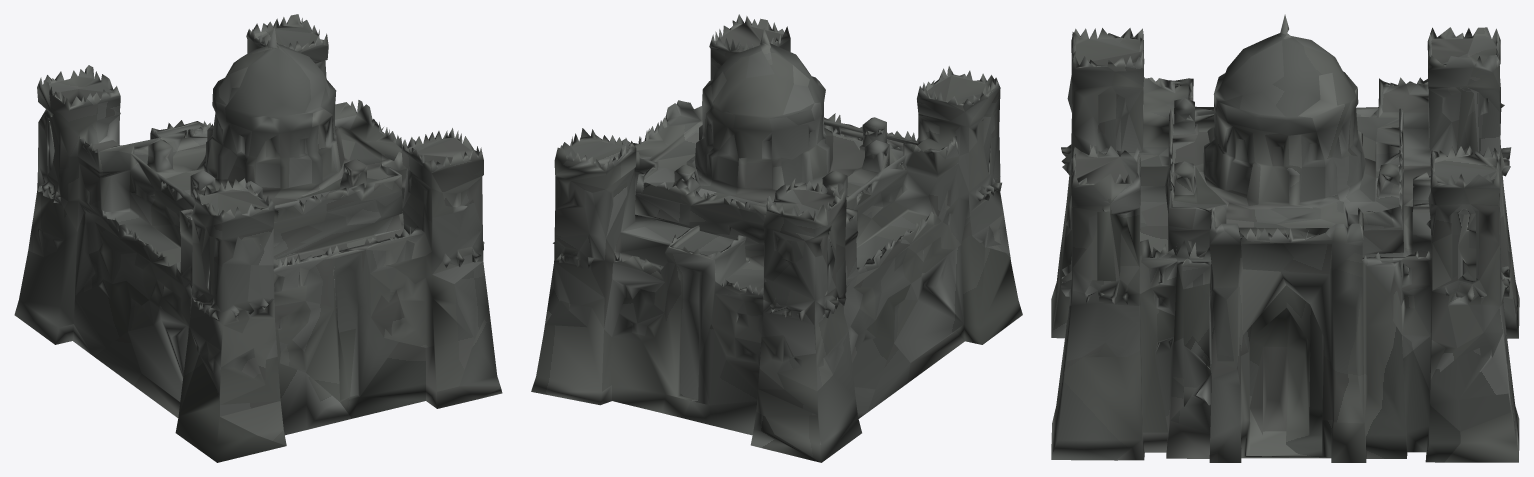
Rendered from castle_keep_stone_2_lo.glb.
3 views of the same model, side by side, from view 1: azimuth 30°, elevation 25°; view 2: azimuth 150°, elevation 25°; view 3: azimuth 270°, elevation 25° (orthographic). The views are drawn at different scales.
Parts seen in each view (by area): view 1: tripo_node_6b5b592e-fcbc-40c5-88a7-706b343df75c; view 2: tripo_node_6b5b592e-fcbc-40c5-88a7-706b343df75c; view 3: tripo_node_6b5b592e-fcbc-40c5-88a7-706b343df75c.
Boxes of the visible parts, box(x1,y1,x2,y2) form: tripo_node_6b5b592e-fcbc-40c5-88a7-706b343df75c: box(14, 14, 502, 462); tripo_node_6b5b592e-fcbc-40c5-88a7-706b343df75c: box(531, 14, 1022, 462); tripo_node_6b5b592e-fcbc-40c5-88a7-706b343df75c: box(1051, 14, 1519, 462).
Size of the model in its own units: 0.8132 by 0.8624 by 0.978.
1 material, 1 textured.
